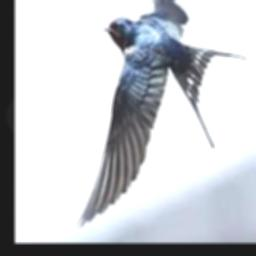Swallow: (75, 0, 246, 229)
